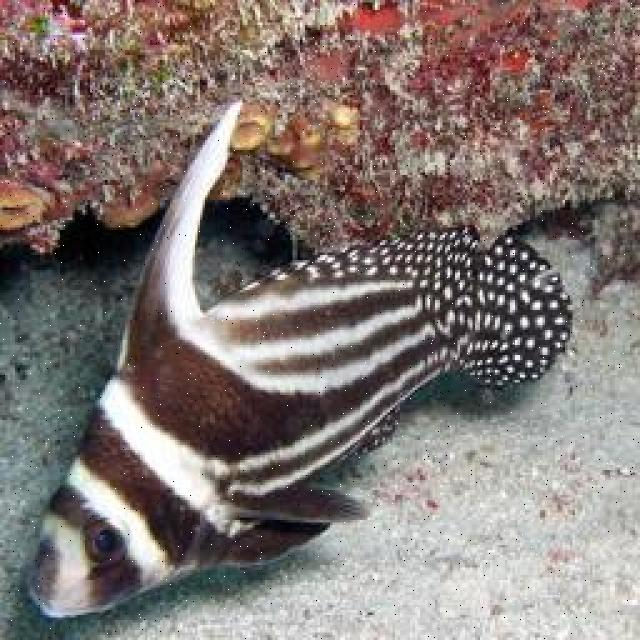fish: (33, 100, 578, 618)
reefs: (0, 2, 638, 250)
